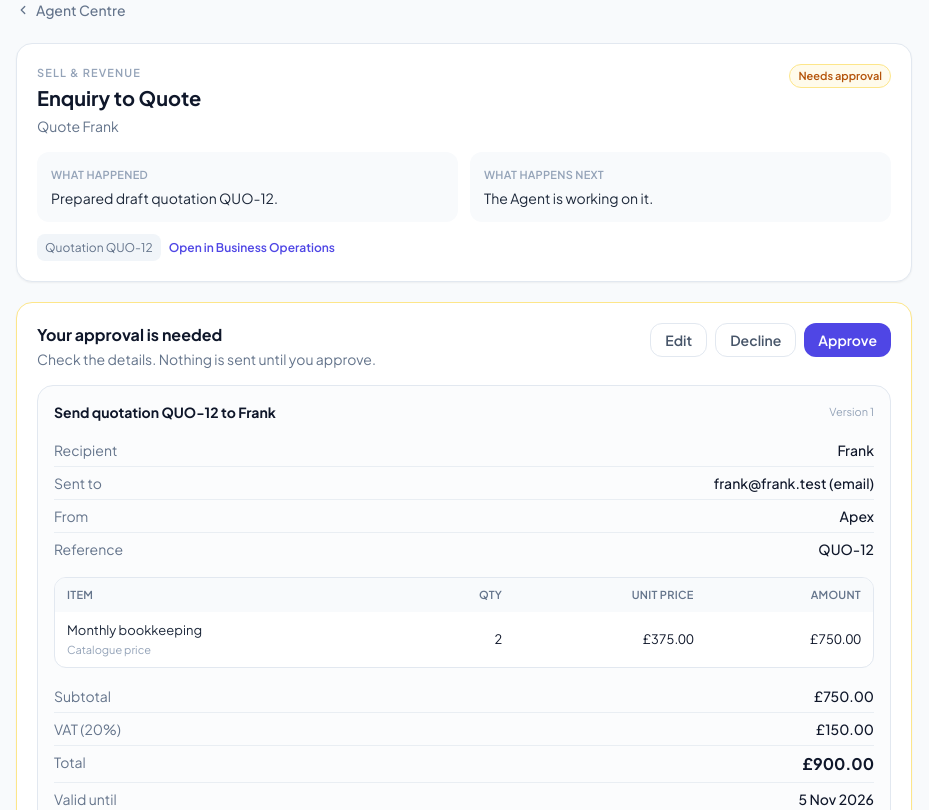
Scenario: editing on the task page › saving shows the new version, who edited it and what changed, and asks for approval again
Click the button "Edit" at point(679, 340), box [650,323,707,357]
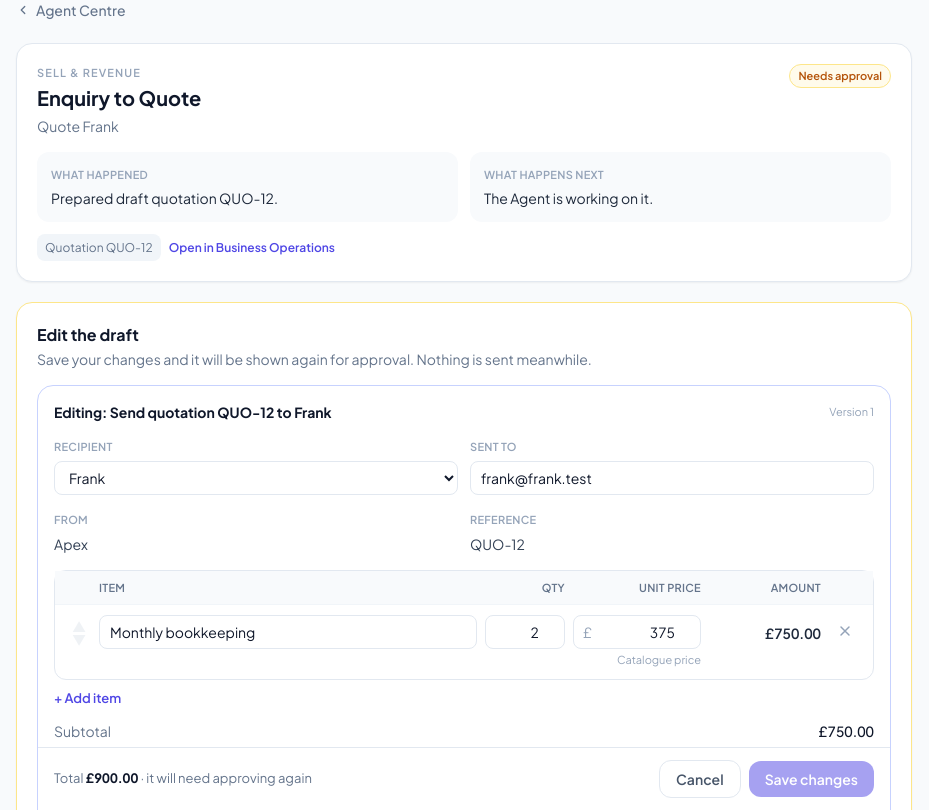
Replace the text in the number field named "Quantity" with "3" at point(525, 632), box [485,615,565,649]
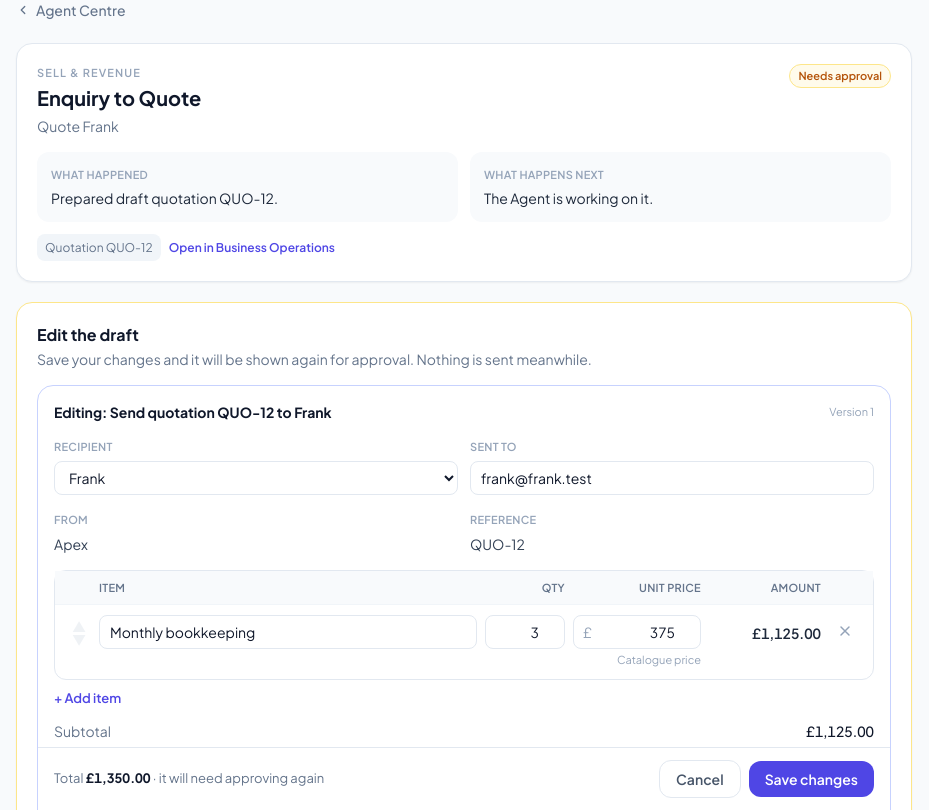
Replace the text in the number field named "Unit price" with "350" at point(637, 632), box [573,615,701,649]
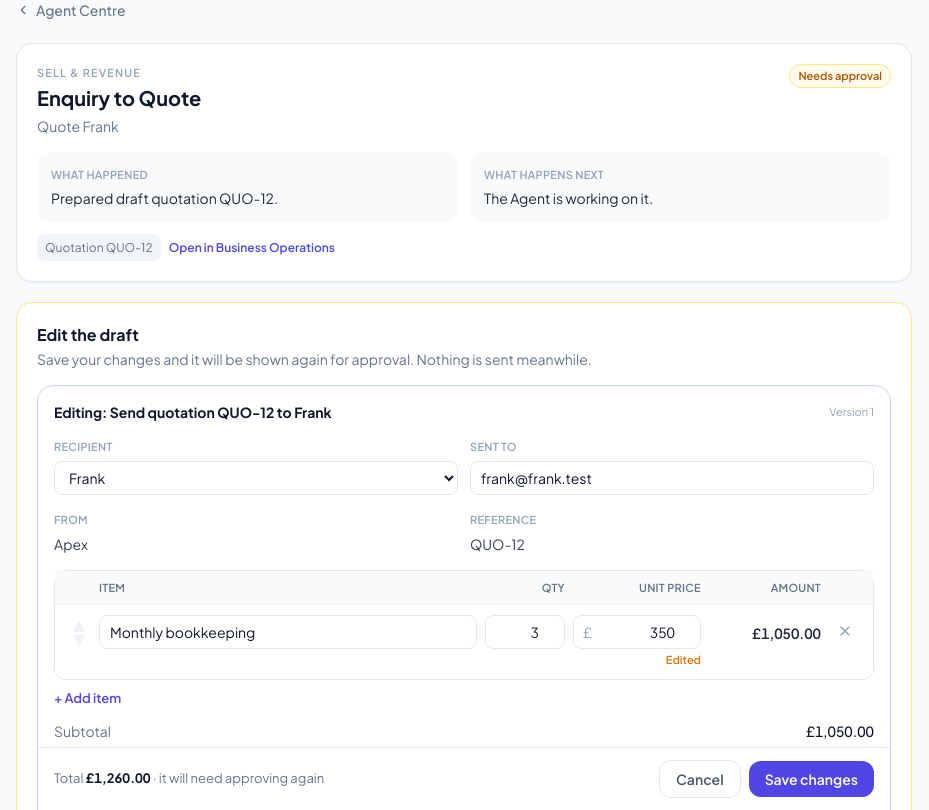
Click the button "Save changes" at point(811, 779), box [749,761,874,797]
(page scrolled)
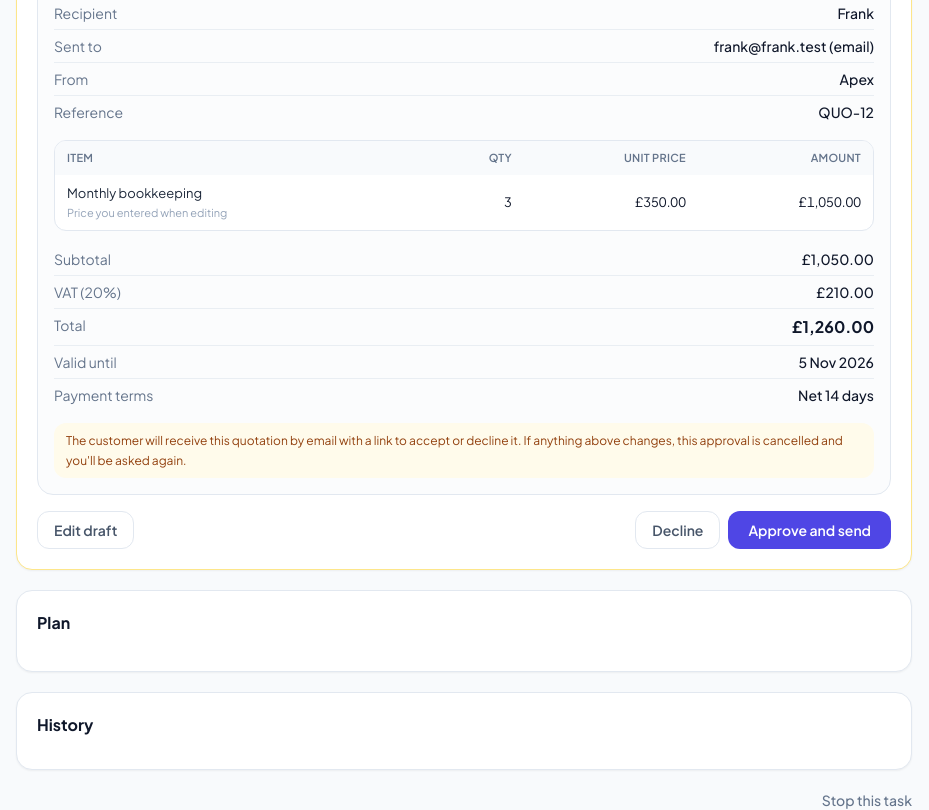
Expected: the button "Approve and send" is shown, [728,511,891,549]
